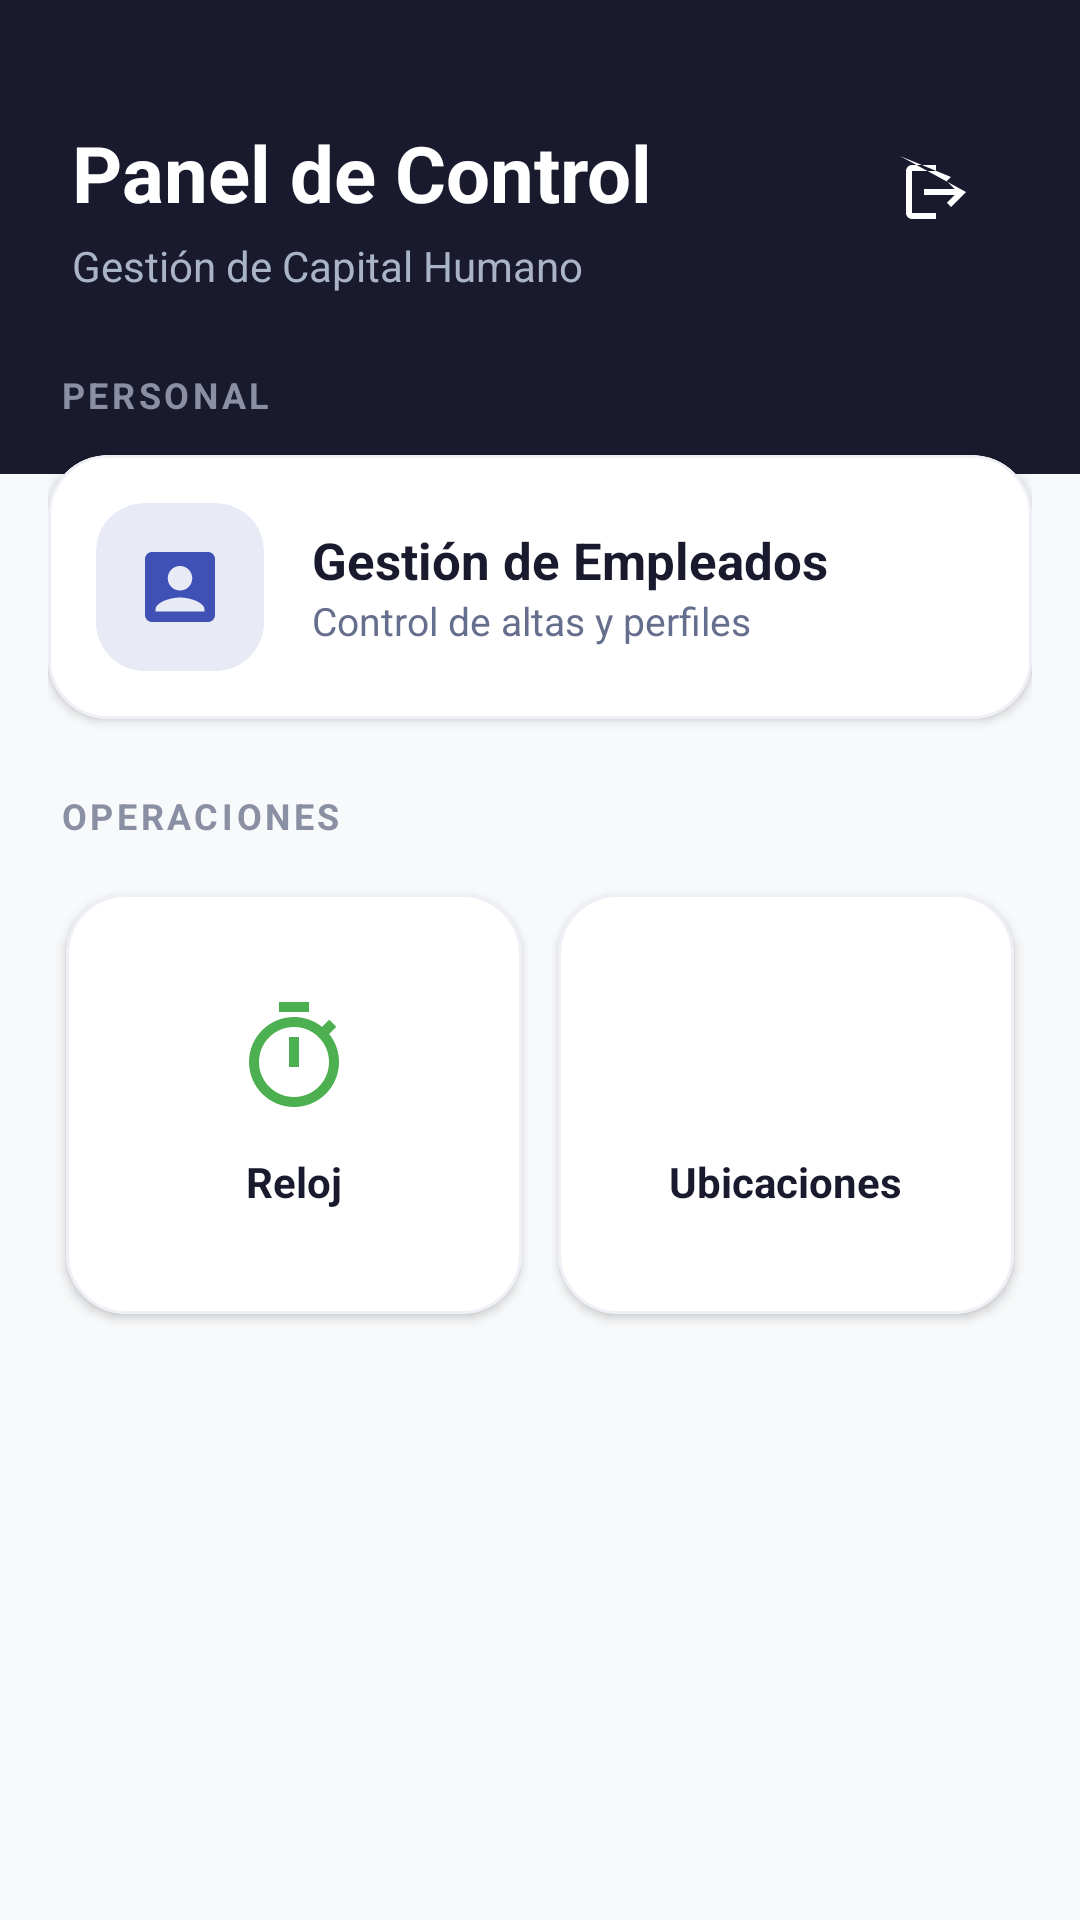

Icon click points for this 1080×1920 phone screenshot, format point (x, y):
timer: point (294, 1054)
